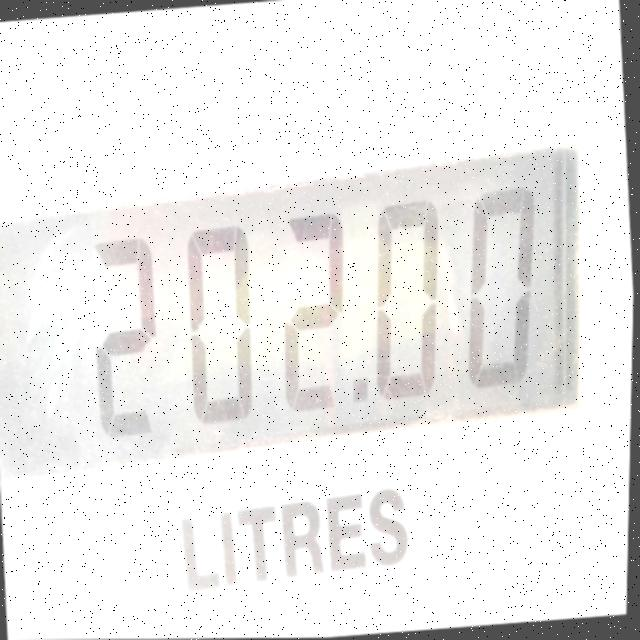.: (349, 364, 376, 410)
0: (363, 191, 460, 425), (173, 215, 270, 435), (460, 185, 547, 404)
2: (80, 229, 171, 450), (274, 204, 359, 415)
